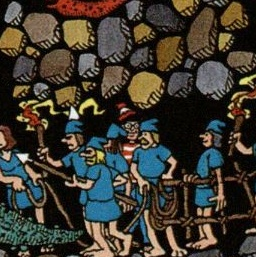waldo: (117, 103, 139, 154)
